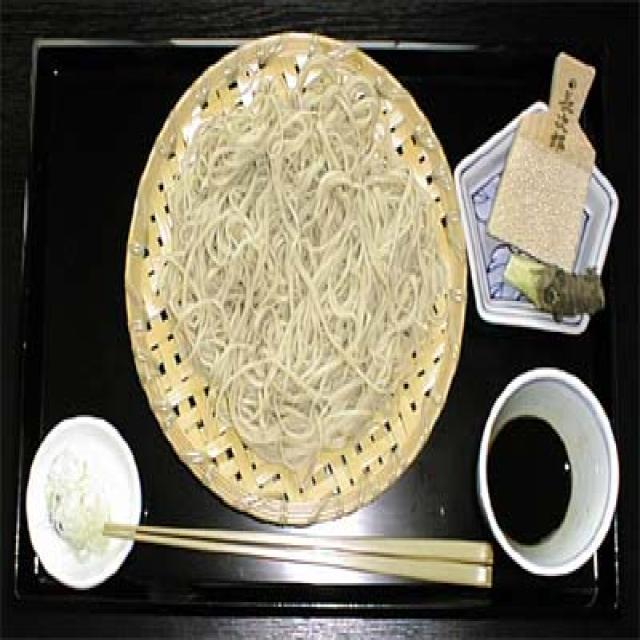面条主食: (112, 12, 470, 538)
